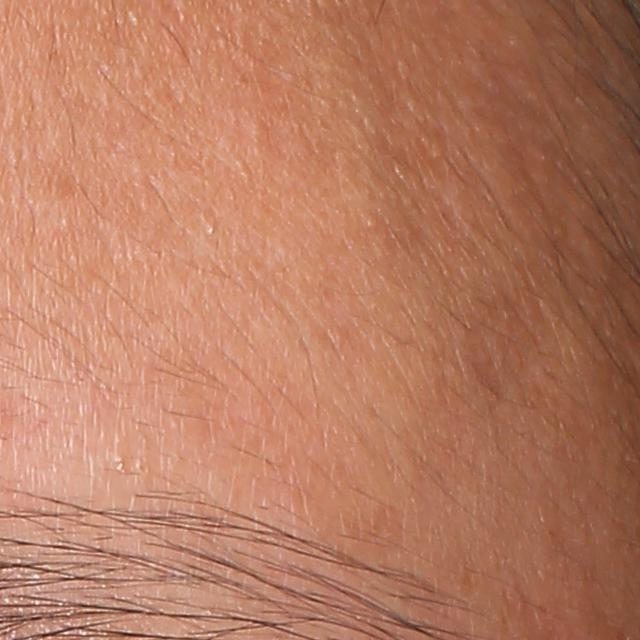comedo: (243, 114, 276, 149), (361, 215, 378, 230)
